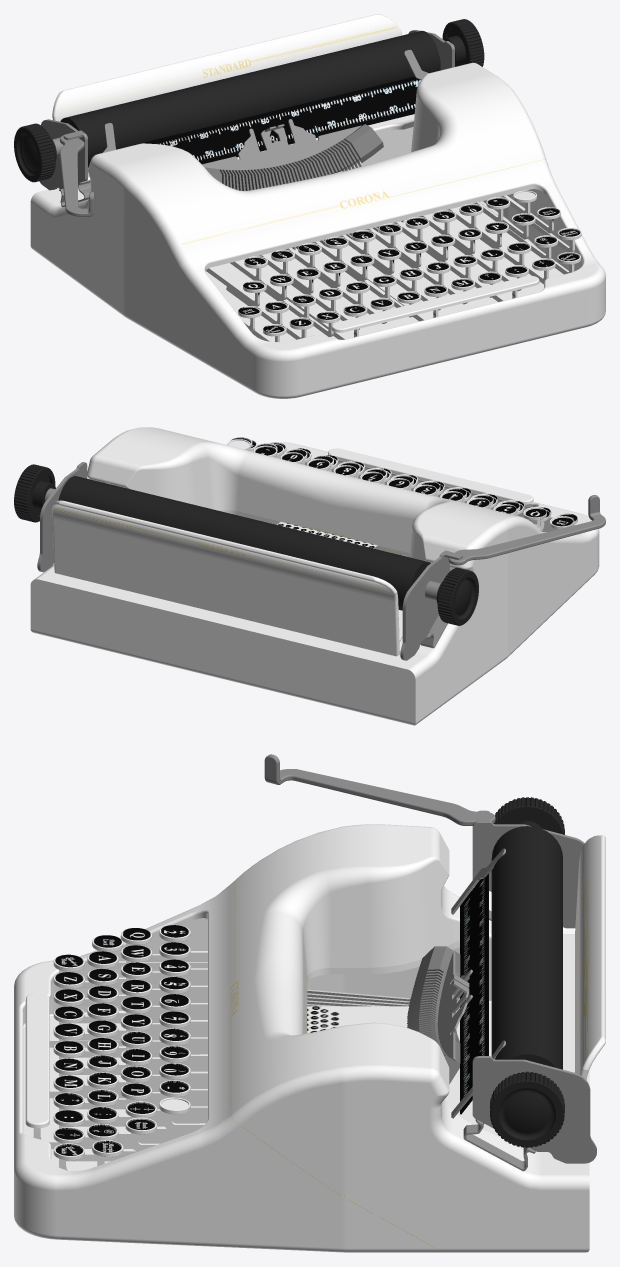
The model's file is typewriter.glb.
3 views of the same model, one above another, from view 1: azimuth 30°, elevation 25°; view 2: azimuth 150°, elevation 25°; view 3: azimuth 270°, elevation 25° (orthographic). The views are drawn at different scales.
Parts seen in each view (by area): view 1: BODY, PLATEN_0, PLATEN_BACK_0, TAPE_0, HAMMER_BLOCK_0, HAMMER_BLOCK_1, SPACEBAR_1, PLATEN_PLATE_1, LEVER_0, KEY_KeyQ, PLATEN_PLATE_0, KEY_KeyA (+13 smaller); view 2: BODY, PLATEN_BACK_0, PLATEN_0, PLATEN_PLATE_1, SPACEBAR_1, LEVER_0, PLATEN_PLATE_0, KEYPLATE; view 3: BODY, PLATEN_0, PLATEN_BACK_0, PLATEN_PLATE_0, TAPE_0, LEVER_0, SPACEBAR_1, HAMMER_BLOCK_0, PLATEN_PLATE_1, KEYPLATE, HAMMER_BLOCK_1, KEY_KeyL (+32 smaller).
Part boxes in pixels (x1,y1,x2,y2): BODY: [30, 62, 605, 398]; PLATEN_0: [14, 19, 484, 182]; PLATEN_BACK_0: [52, 14, 401, 177]; TAPE_0: [116, 76, 420, 164]; HAMMER_BLOCK_0: [205, 124, 383, 190]; HAMMER_BLOCK_1: [202, 119, 360, 170]; SPACEBAR_1: [331, 276, 539, 332]; PLATEN_PLATE_1: [39, 119, 90, 207]; LEVER_0: [59, 135, 94, 216]; KEY_KeyQ: [206, 267, 266, 306]; PLATEN_PLATE_0: [408, 30, 454, 70]; KEY_KeyA: [226, 286, 288, 324]; BODY: [30, 427, 599, 725]; PLATEN_BACK_0: [52, 500, 399, 656]; PLATEN_0: [14, 464, 478, 625]; PLATEN_PLATE_1: [400, 550, 462, 660]; SPACEBAR_1: [328, 448, 533, 504]; LEVER_0: [448, 495, 605, 565]; PLATEN_PLATE_0: [37, 462, 87, 572]; KEYPLATE: [227, 439, 377, 548]; BODY: [14, 824, 589, 1252]; PLATEN_0: [490, 797, 564, 1147]; PLATEN_BACK_0: [575, 835, 605, 1080]; PLATEN_PLATE_0: [463, 1056, 596, 1171]; TAPE_0: [460, 874, 488, 1114]; LEVER_0: [264, 754, 495, 825]; SPACEBAR_1: [25, 993, 49, 1128]; HAMMER_BLOCK_0: [407, 946, 460, 1084]; PLATEN_PLATE_1: [472, 810, 584, 928]; KEYPLATE: [159, 1006, 408, 1131]; HAMMER_BLOCK_1: [437, 951, 472, 1059]; KEY_KeyL: [87, 1089, 207, 1123].
Size of the model in its own units: 10.05 by 3.14 by 7.96.
Materials: 9 (4 with a texture image).
